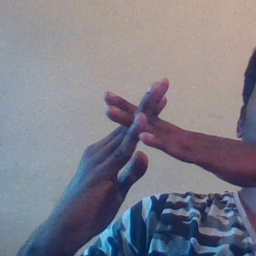W: (87, 70, 195, 199)
